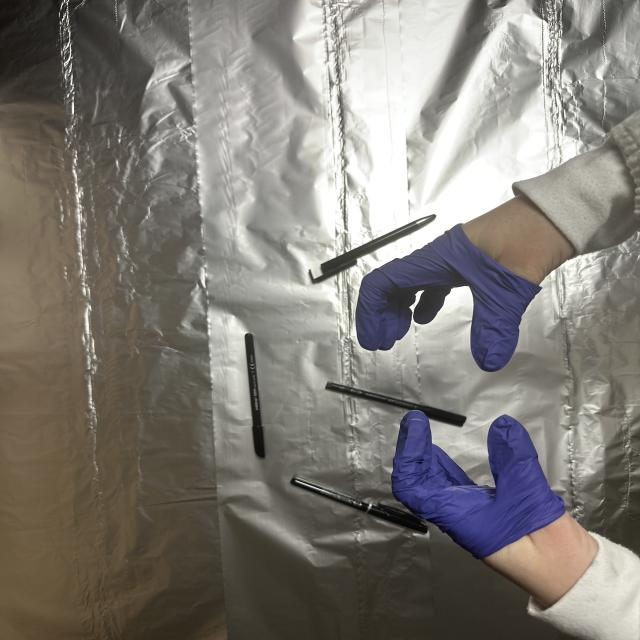glove_partial: (386, 407, 603, 610), (356, 192, 576, 372)
